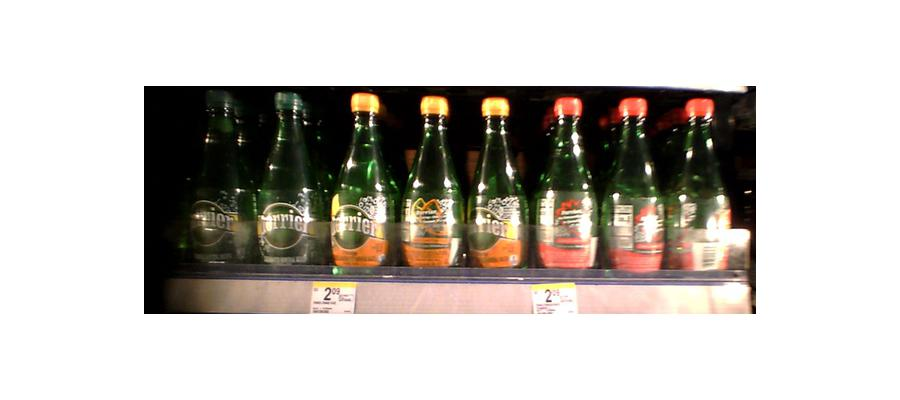bottle: (666, 93, 732, 279), (256, 86, 322, 269), (332, 88, 395, 276), (604, 93, 666, 280), (401, 92, 464, 276), (535, 95, 597, 277), (190, 86, 251, 266), (467, 95, 526, 278)
